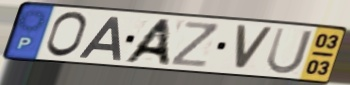A: (120, 17, 175, 67), (76, 15, 122, 62)
O: (43, 10, 90, 59)
U: (263, 26, 316, 76)
V: (233, 23, 276, 73)
Z: (169, 20, 221, 70)
